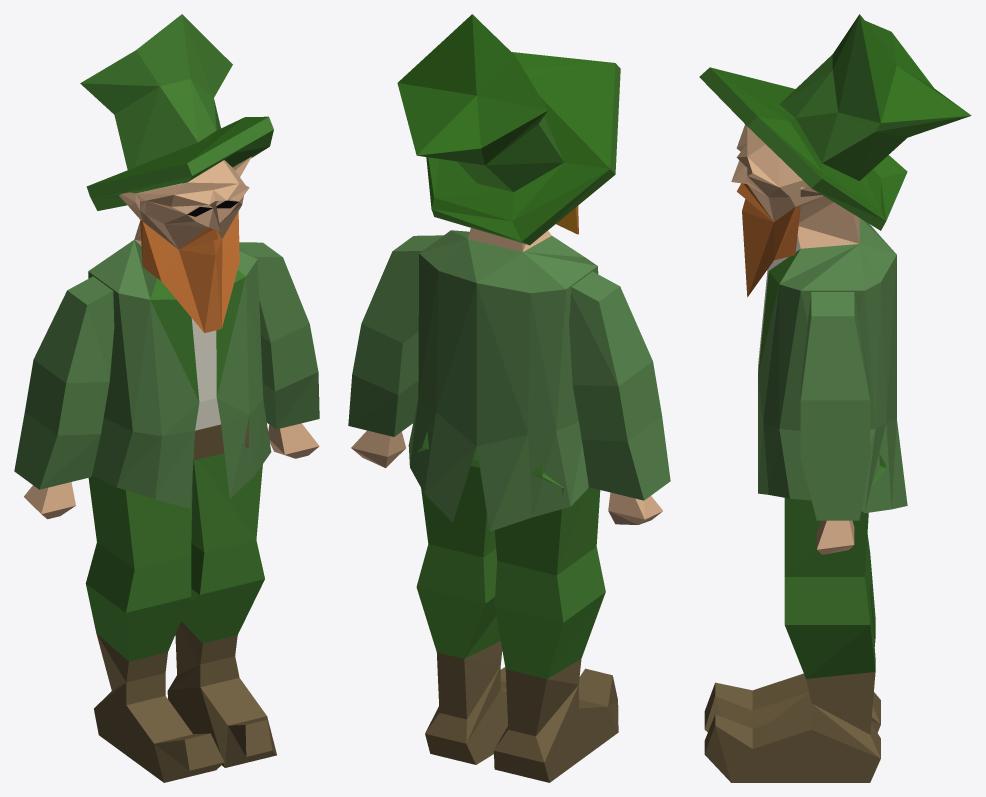
Rendered from tool_leprechaun.glb.
The picture shows the model from 3 angles, left to right: view 1: azimuth 30°, elevation 25°; view 2: azimuth 150°, elevation 25°; view 3: azimuth 270°, elevation 25°; orthographic projection. The views are drawn at different scales.
Bounding box in the file's own units: 65 × 155 × 51.
1 material, 1 textured.
